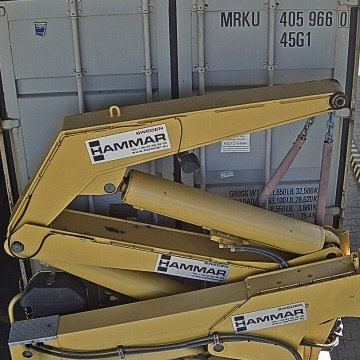serial_id: (221, 10, 349, 26)
